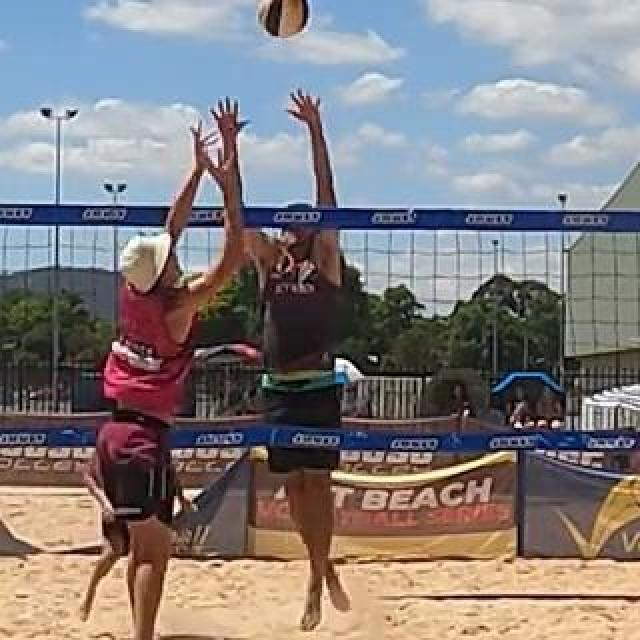volleyball: (259, 0, 311, 38)
